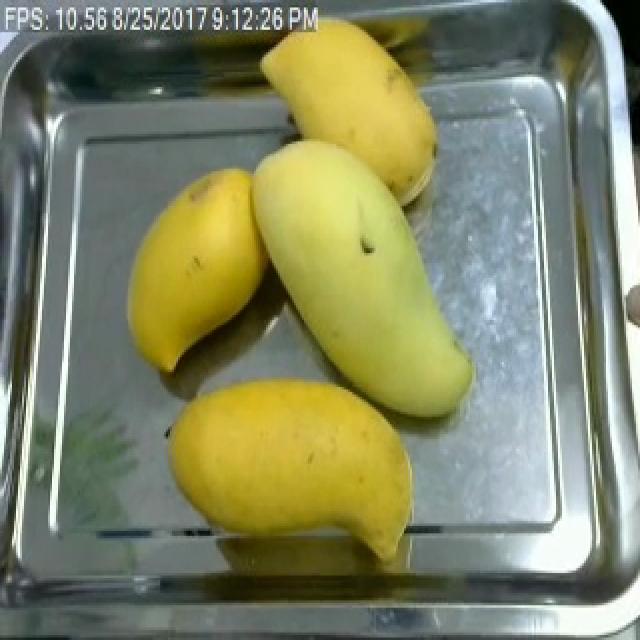fruit: (236, 119, 482, 437), (154, 362, 426, 576), (252, 7, 456, 231), (110, 154, 284, 382)
